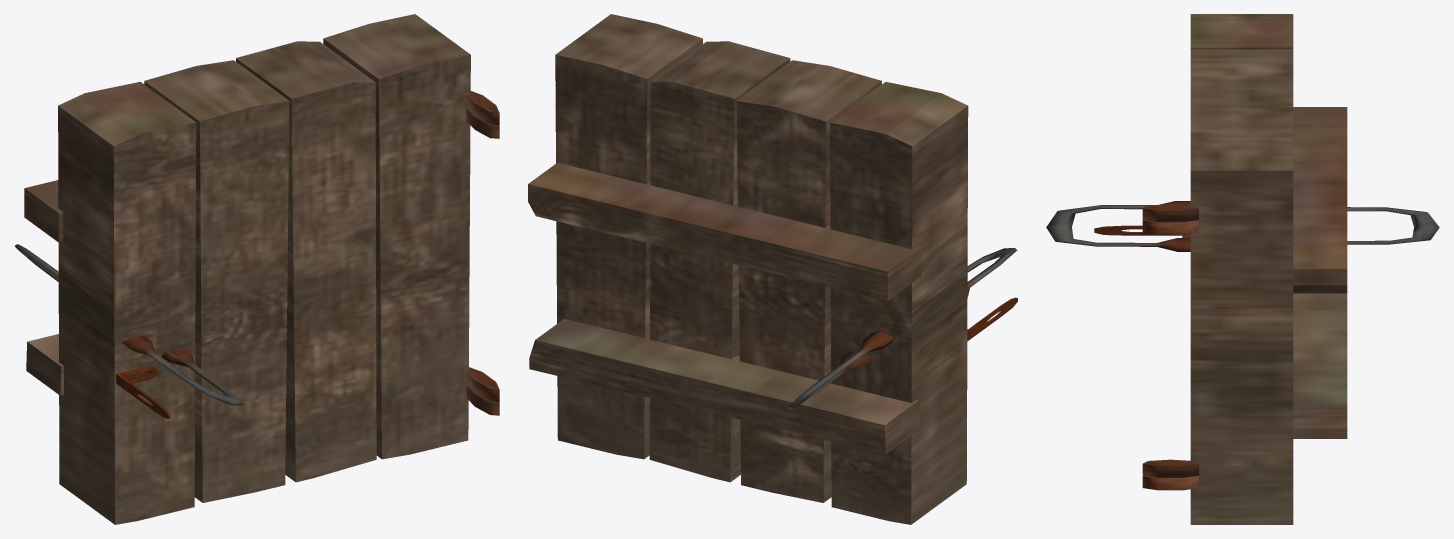
File: SM_TimberLeaf.glb
3 renders of one model, left to right at view 1: azimuth 30°, elevation 25°; view 2: azimuth 150°, elevation 25°; view 3: azimuth 270°, elevation 25°, orthographic. The views are drawn at different scales.
Visible parts, largest first — view 1: SM_TimberLeaf; view 2: SM_TimberLeaf; view 3: SM_TimberLeaf.
Boxes of the visible parts, <box> form: SM_TimberLeaf: <box>15,14,499,524</box>; SM_TimberLeaf: <box>528,14,1017,524</box>; SM_TimberLeaf: <box>1046,14,1439,524</box>.
Size of the model in its own units: 1 by 1 by 1.
1 material, 1 textured.
